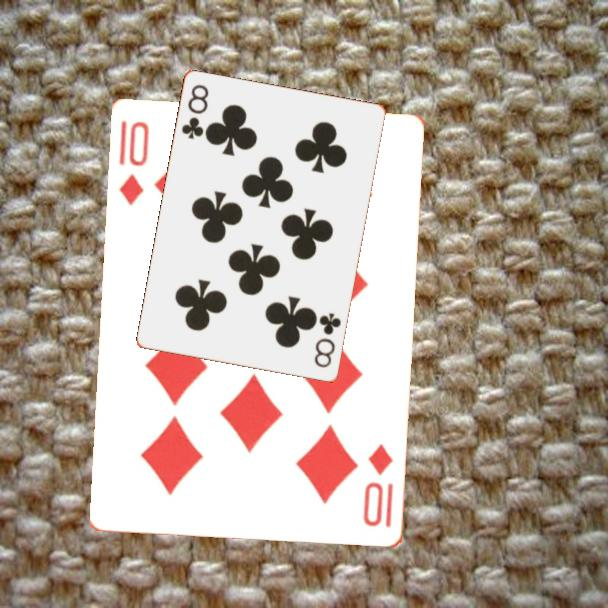c08: (178, 81, 212, 143), (311, 309, 344, 371)
d10: (360, 441, 397, 531), (116, 117, 152, 209)
